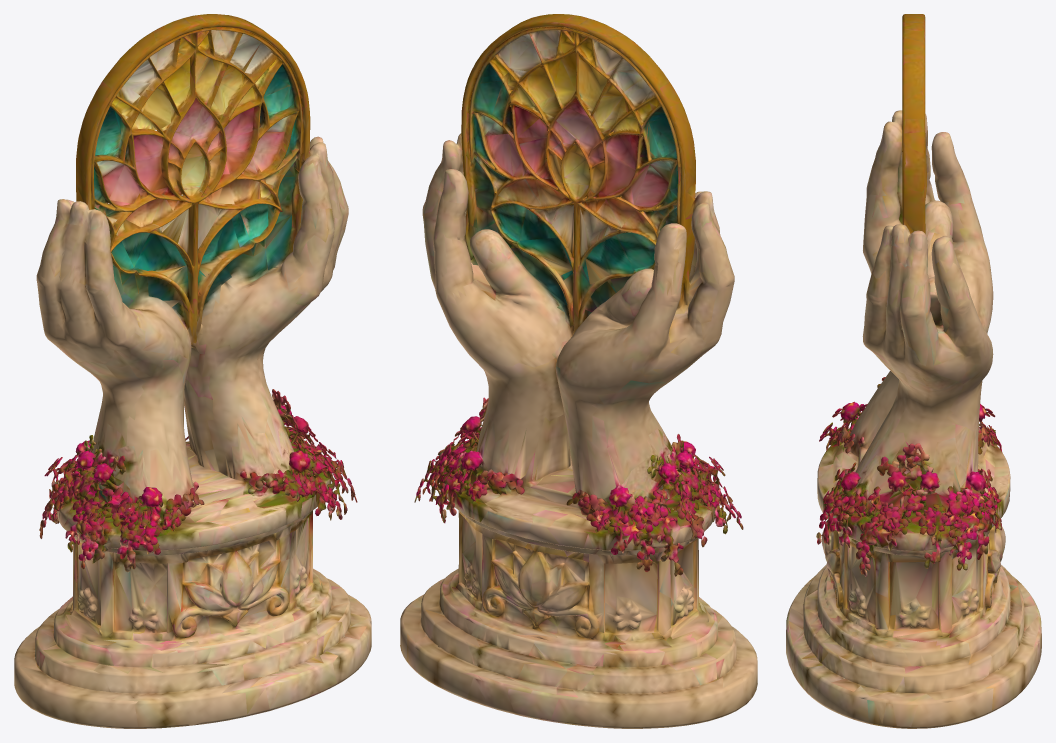
Rendered from esc-manos.glb.
3 views of the same model, side by side, from view 1: azimuth 30°, elevation 25°; view 2: azimuth 150°, elevation 25°; view 3: azimuth 270°, elevation 25° (orthographic). The views are drawn at different scales.
Parts seen in each view (by area): view 1: Mesh_0; view 2: Mesh_0; view 3: Mesh_0.
Part boxes in pixels (left/top/right/bottom): Mesh_0: left=14, top=14, right=371, bottom=728; Mesh_0: left=400, top=14, right=757, bottom=728; Mesh_0: left=786, top=14, right=1041, bottom=728.
Size of the model in its own units: 1.02 by 1.9 by 0.704.
Materials: 1 (1 with a texture image).
